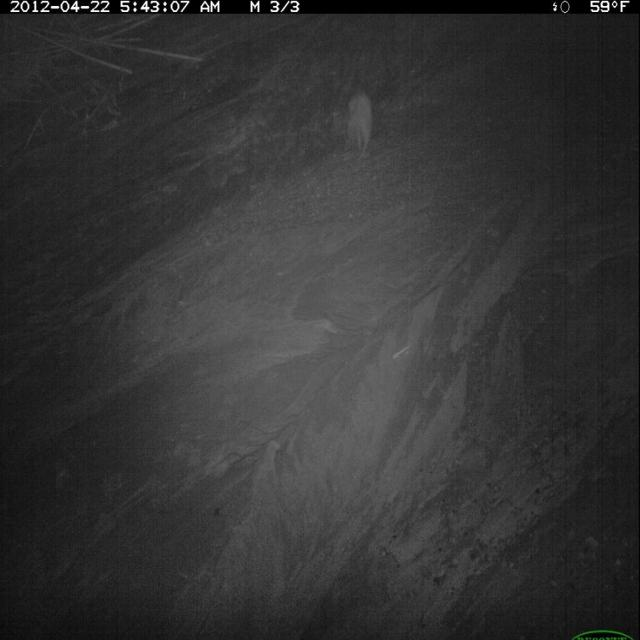opossum: (345, 88, 377, 164)
